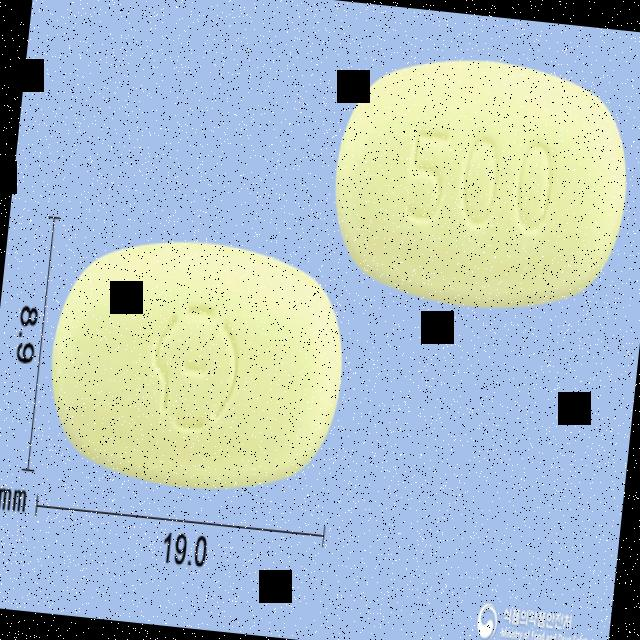Clarione: (318, 37, 640, 334), (34, 217, 358, 510)
